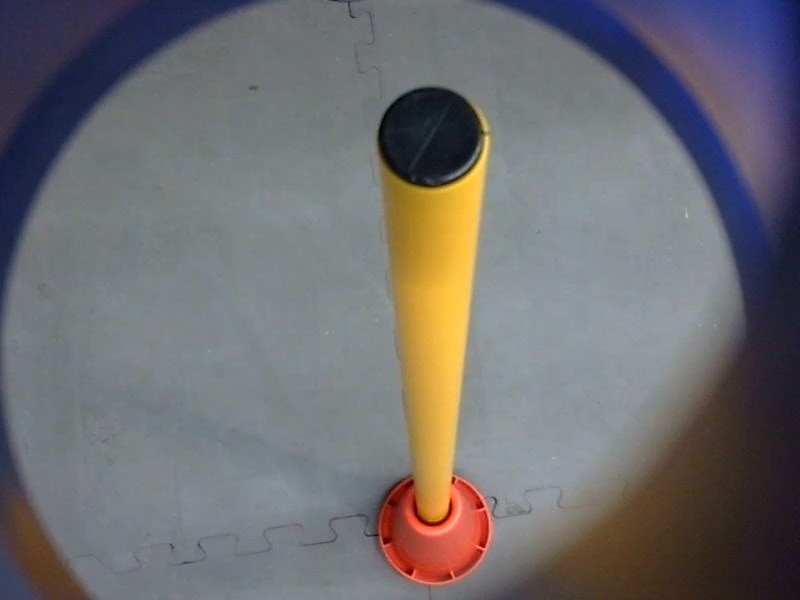tip: (371, 78, 495, 199)
